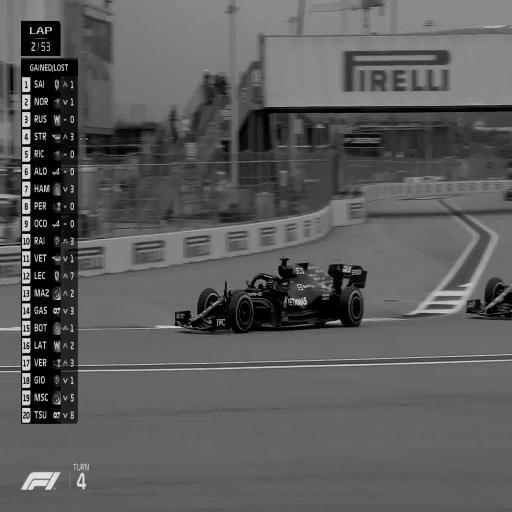f1_car: (175, 258, 367, 332), (466, 277, 512, 318)
